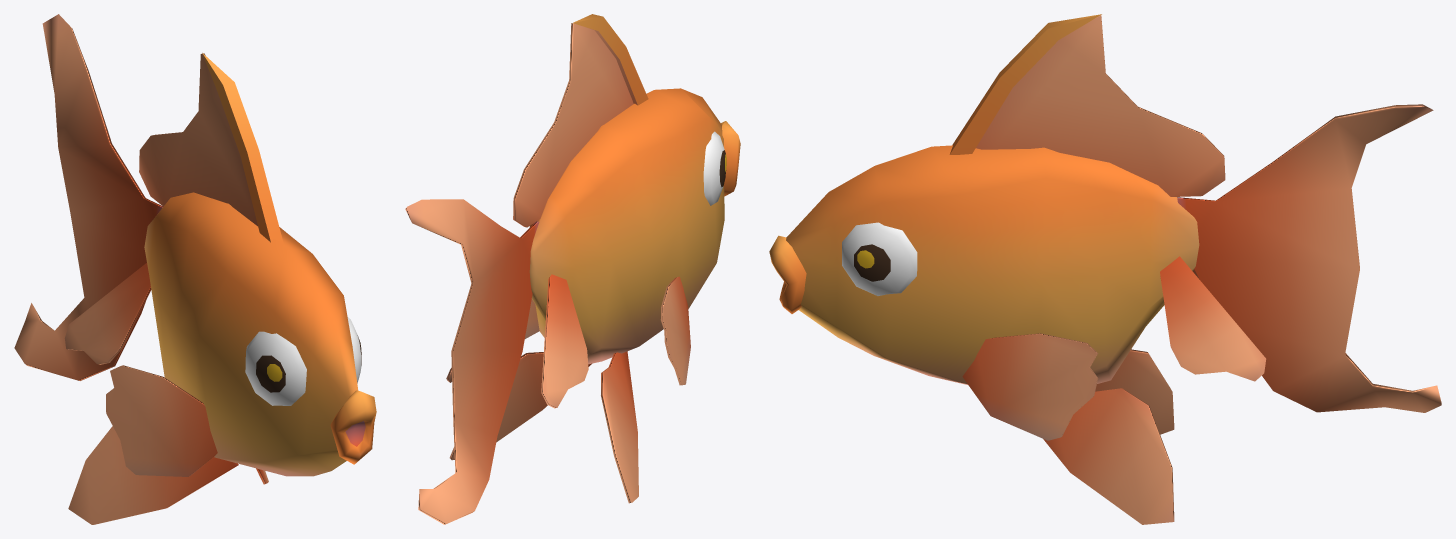
The picture shows the model from 3 angles, left to right: view 1: azimuth 30°, elevation 25°; view 2: azimuth 150°, elevation 25°; view 3: azimuth 270°, elevation 25°; orthographic projection. The views are drawn at different scales.
Visible parts, largest first — view 1: Fish_Goldfish; view 2: Fish_Goldfish; view 3: Fish_Goldfish.
Boxes of the visible parts, x1,y1,x2,y2 form: Fish_Goldfish: (14,14,376,524); Fish_Goldfish: (405,14,740,524); Fish_Goldfish: (769,14,1441,524).
Size of the model in its own units: 11.99 by 27.01 by 35.06.
